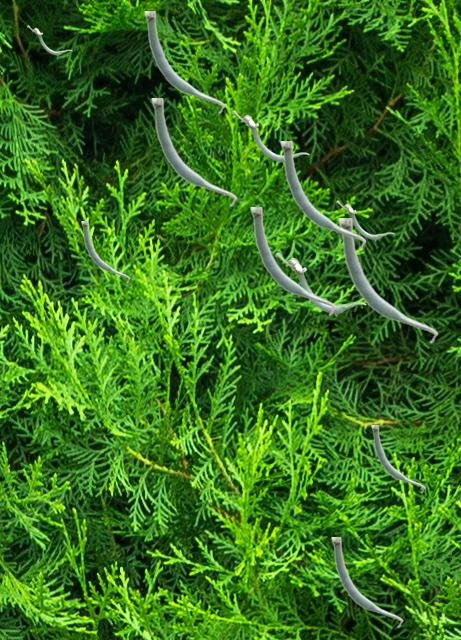french_bean: (338, 218, 437, 343), (151, 98, 236, 206), (250, 207, 335, 315), (280, 141, 365, 249), (144, 11, 224, 113), (331, 537, 402, 627), (275, 252, 365, 315), (232, 110, 308, 163), (371, 425, 424, 492), (81, 221, 129, 282), (336, 200, 393, 240), (27, 25, 71, 55)
